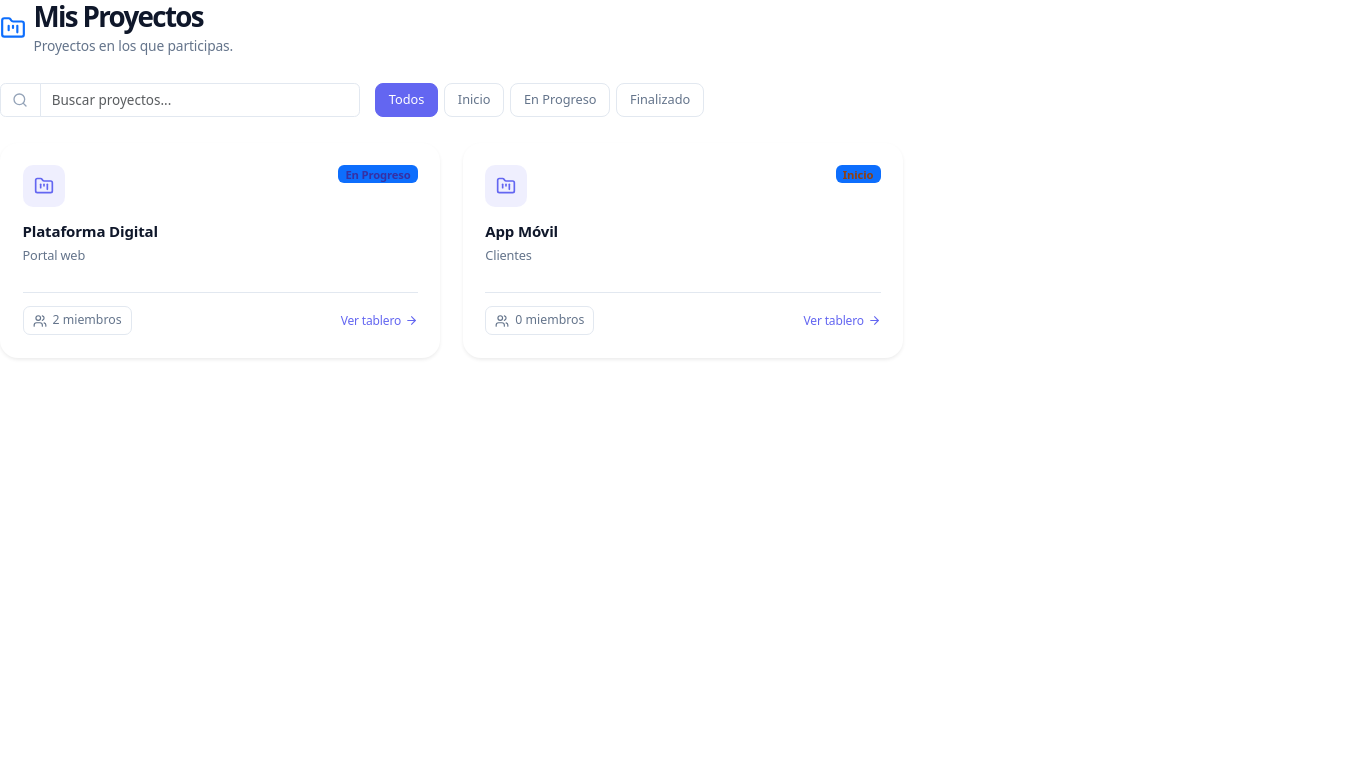
Test case: UserProjects › abre el modal de integrantes sin navegar
Check: the heading "Plataforma Digital" is shown, box x1=22 y1=222 x2=158 y2=242
Click the button "2 miembros" at (77, 320), box x1=22 y1=306 x2=132 y2=335
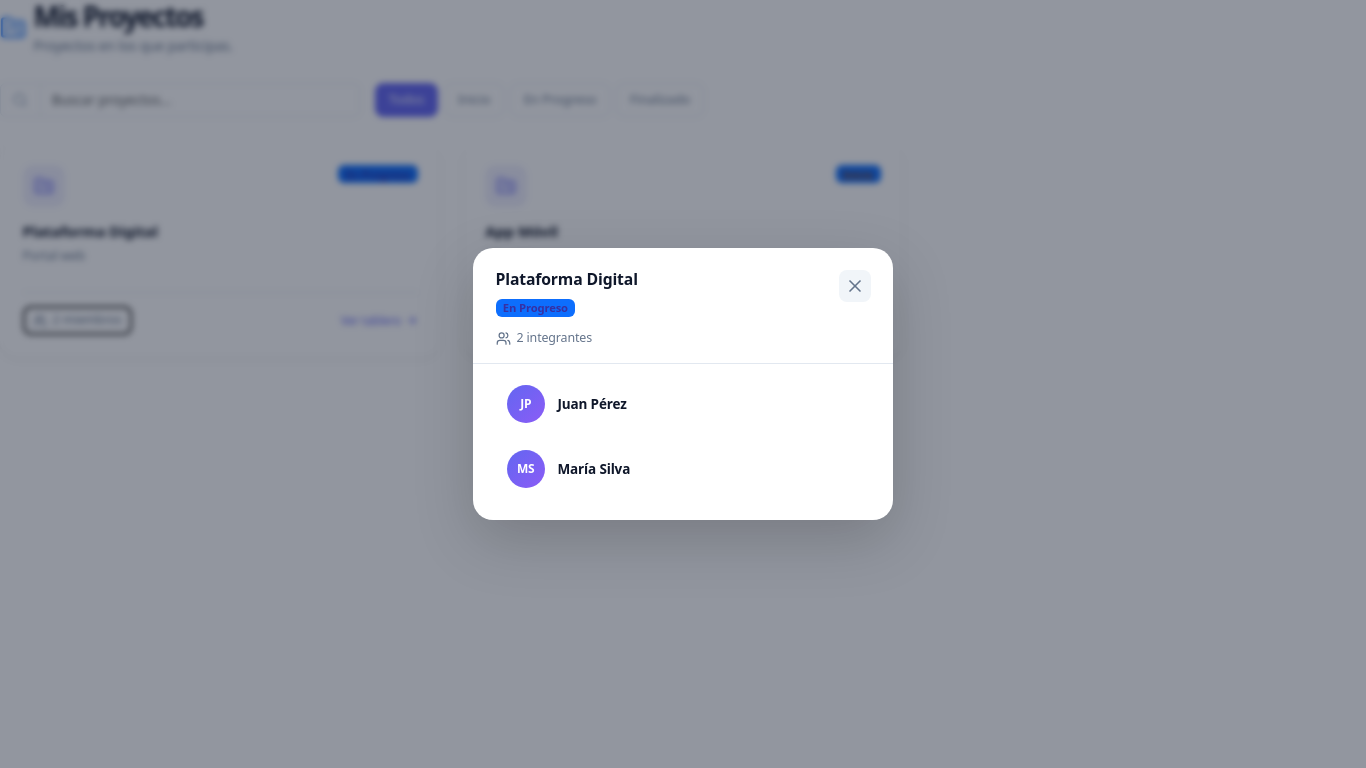
Check: the text "2 integrantes" is shown, box x1=516 y1=329 x2=592 y2=348
Check: the text "Juan Pérez" is shown, box x1=558 y1=394 x2=627 y2=414
